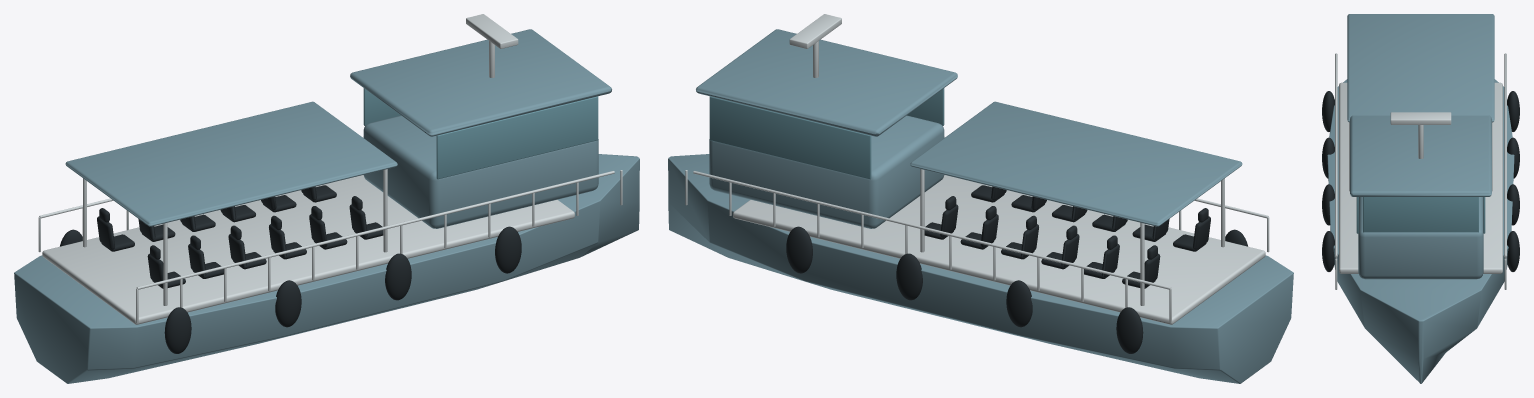
Rendered from Boat.fbx.
3 views of the same model, side by side, from view 1: azimuth 30°, elevation 25°; view 2: azimuth 150°, elevation 25°; view 3: azimuth 270°, elevation 25° (orthographic). The views are drawn at different scales.
Visible parts, largest first — view 1: BodyPaint, BrushedAlloy, TrimRubber, Glazing; view 2: BodyPaint, BrushedAlloy, TrimRubber, Glazing; view 3: BodyPaint, BrushedAlloy, Glazing, TrimRubber.
Part boxes in pixels (x1,y1,x2,y2): BodyPaint: [14, 29, 639, 383]; BrushedAlloy: [38, 14, 622, 324]; TrimRubber: [60, 185, 521, 353]; Glazing: [363, 88, 598, 179]; BodyPaint: [668, 29, 1293, 383]; BrushedAlloy: [685, 14, 1269, 324]; TrimRubber: [786, 185, 1247, 353]; Glazing: [709, 88, 944, 179]; BodyPaint: [1327, 14, 1514, 383]; BrushedAlloy: [1335, 53, 1506, 289]; Glazing: [1356, 197, 1485, 233]; TrimRubber: [1322, 91, 1519, 271].
Size of the model in its own units: 1600 by 618 by 538.
